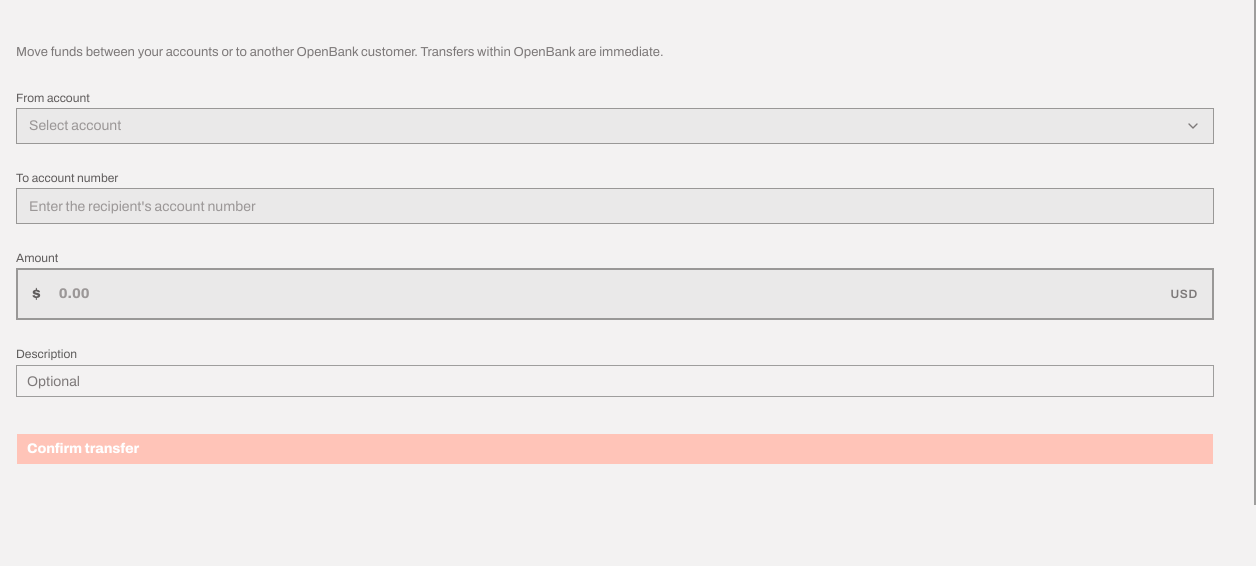
Scenario: TransferPanel integration › preview miss shows No account found when the account doesn't exist
In the field with placeholder "Enter the recipient's account number": coordinates (615, 206) left=16, top=188, right=1214, bottom=224, type "999999"
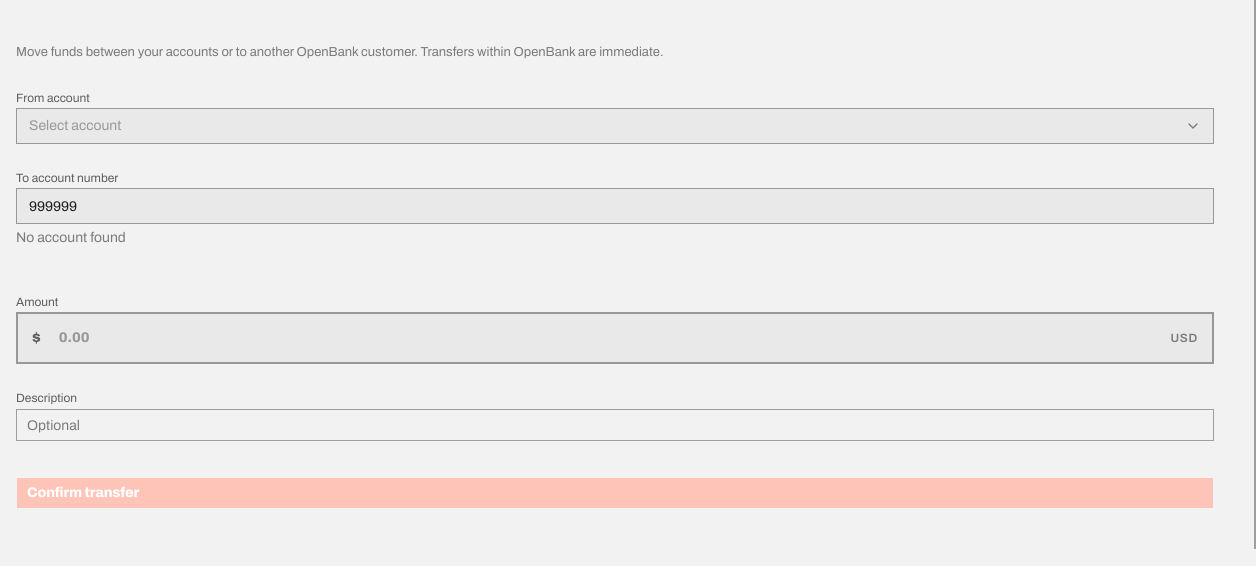
Now the element with test id "recipient-preview-live" is shown, box left=16, top=230, right=126, bottom=245
